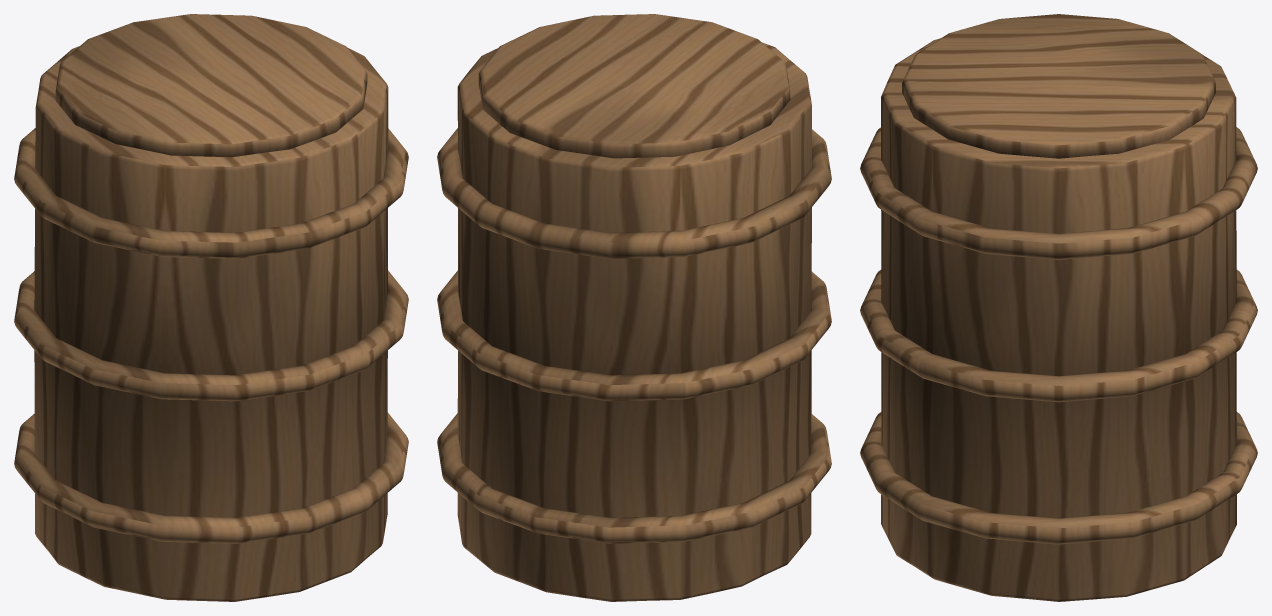
The model's file is p_barrel.glb.
The picture shows the model from 3 angles, left to right: view 1: azimuth 30°, elevation 25°; view 2: azimuth 150°, elevation 25°; view 3: azimuth 270°, elevation 25°; orthographic projection.
Visible parts, largest first — view 1: barrel; view 2: barrel; view 3: barrel.
Part boxes in pixels (<box>): barrel: <box>14,14,408,601</box>; barrel: <box>437,14,831,601</box>; barrel: <box>860,14,1257,601</box>.
Bounding box in the file's own units: 0.7601 × 0.9507 × 0.7601.
1 material, 1 textured.
